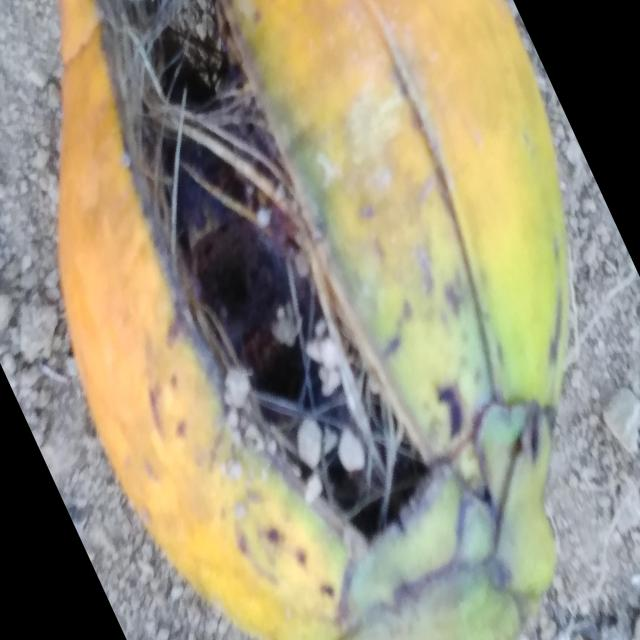damaged: (59, 0, 572, 640)
